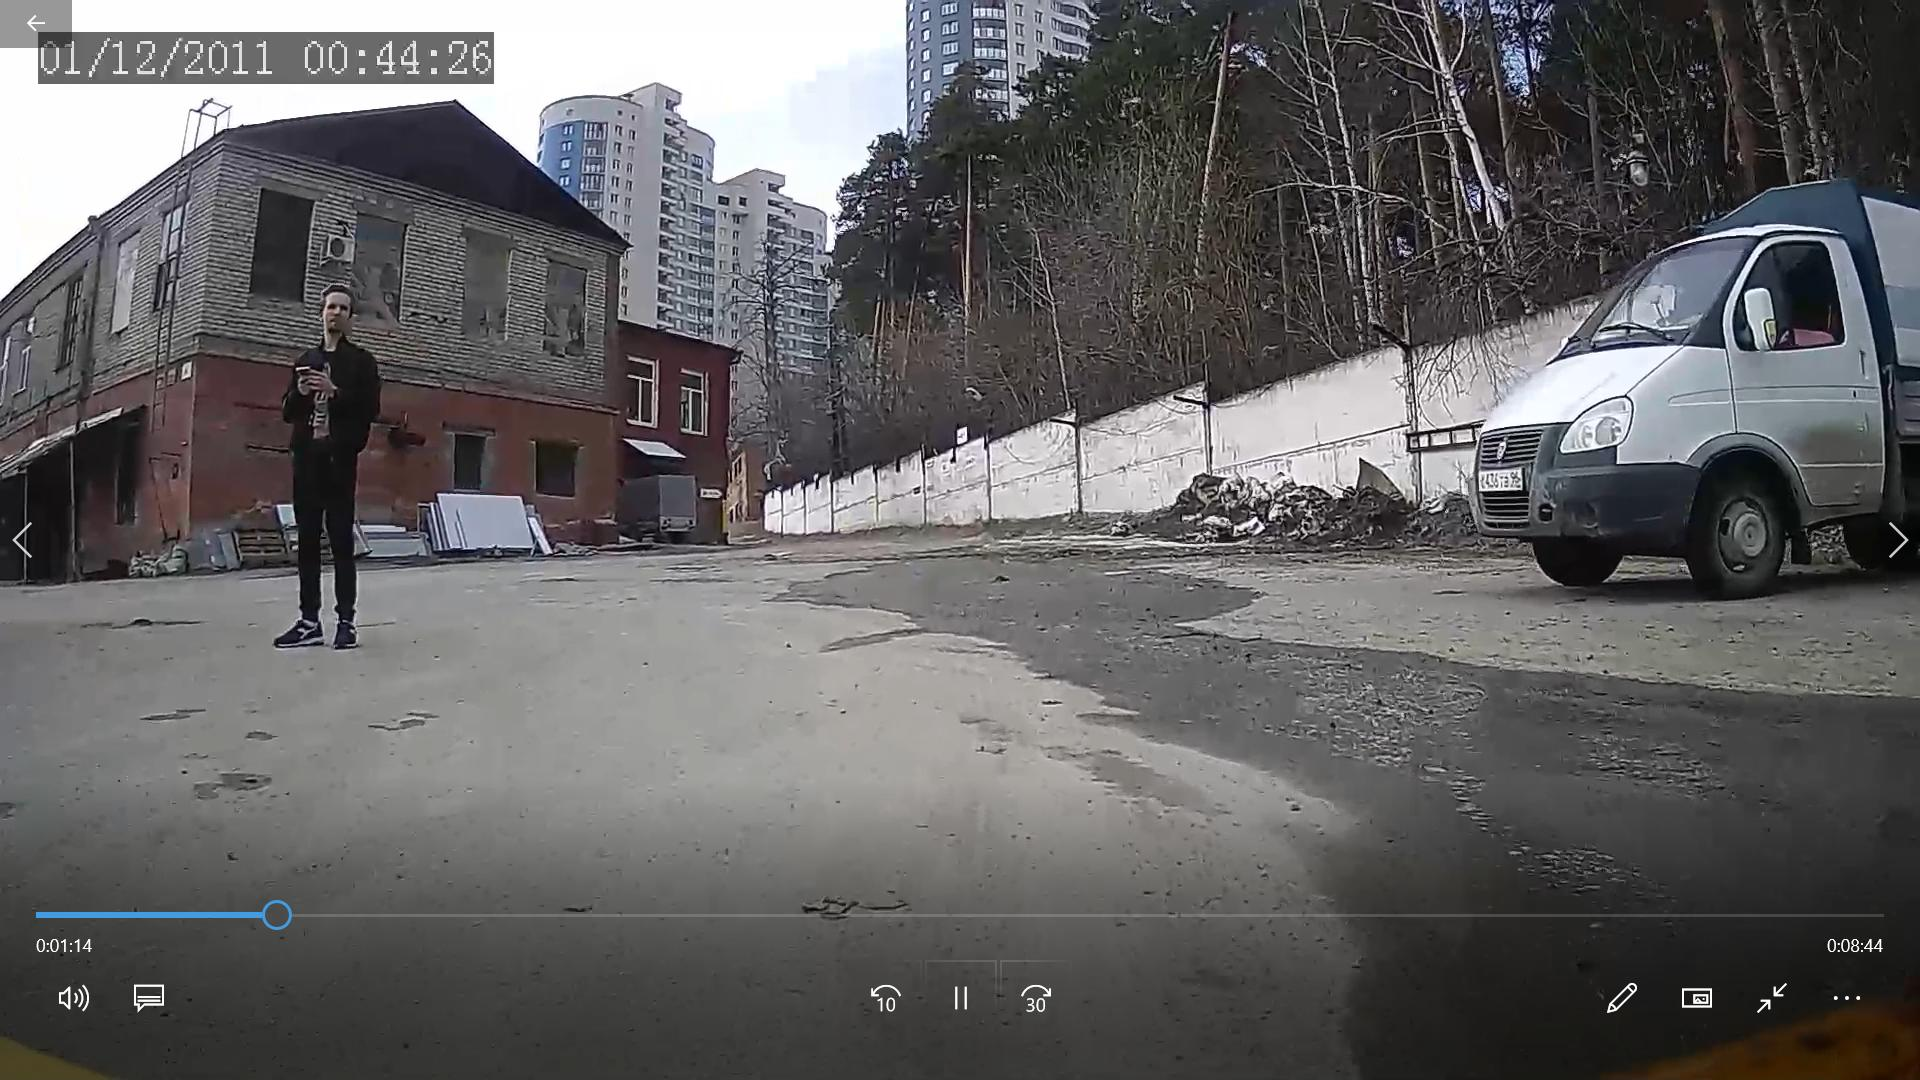plate: (1481, 468, 1524, 490)
